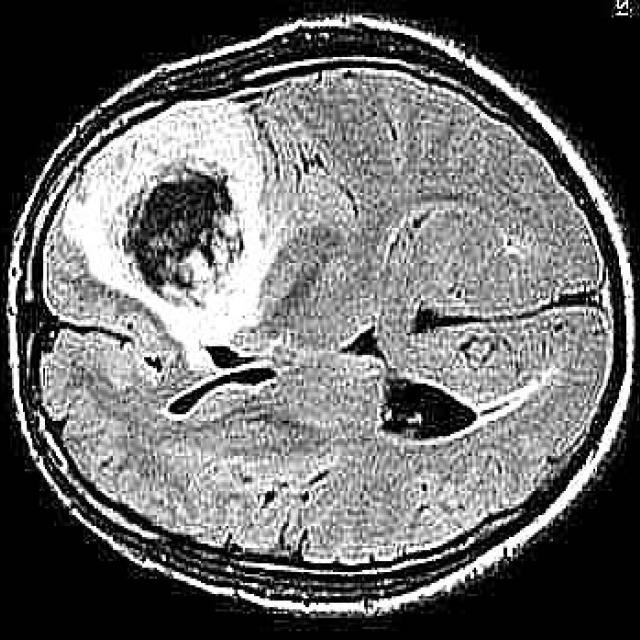tumor: (77, 103, 272, 374)
